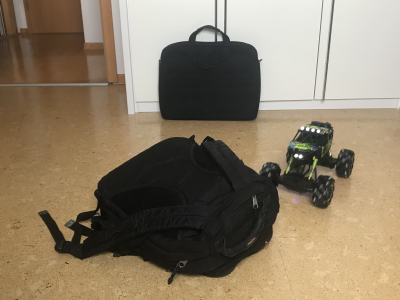remote control car: (256, 119, 356, 209)
